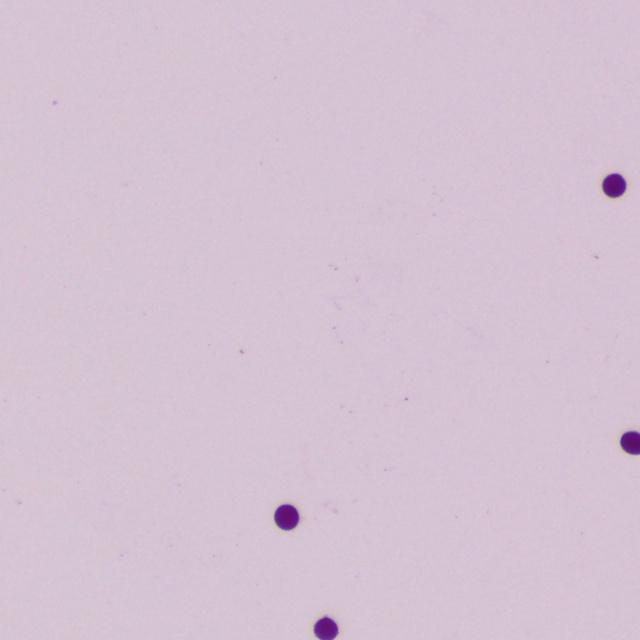viable: (274, 504, 298, 530), (314, 617, 338, 639), (603, 174, 625, 197), (622, 431, 639, 454)
